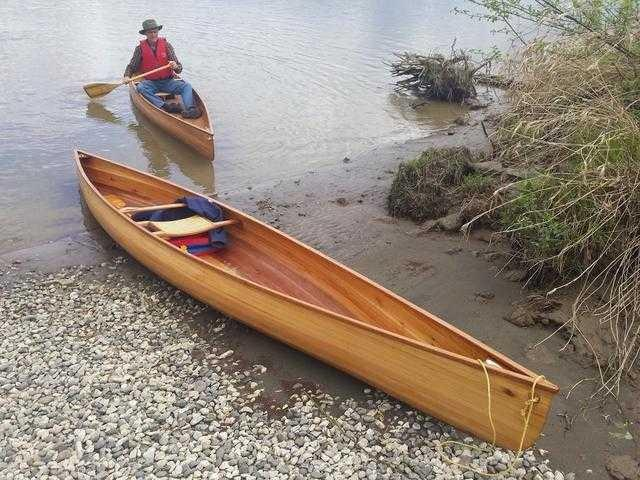kayak: (74, 150, 555, 452), (128, 83, 216, 162)
